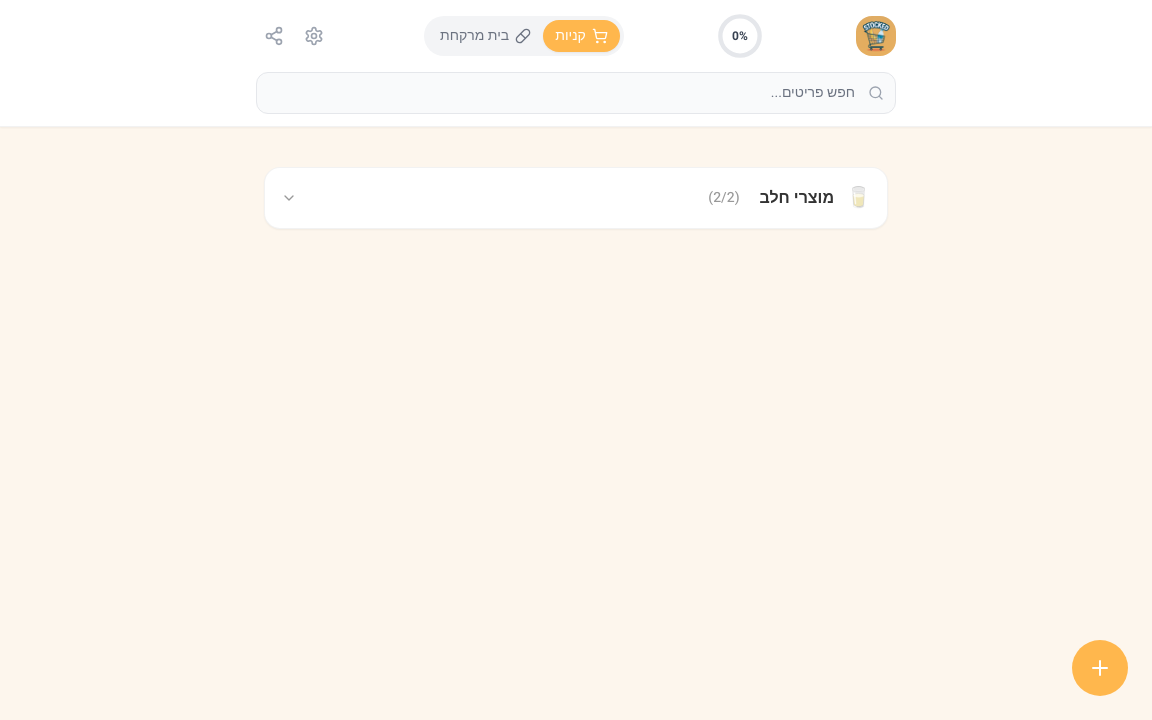
Integration Tests - User Workflows › Complete Shopping Journey › user can complete a full shopping workflow
The width and height of the screenshot is (1152, 720).
Later steps or results of the test are not shown.
# Expand category to see items
Click the heading "מוצרי חלב" at point(797, 198), box [760,186,834,210]
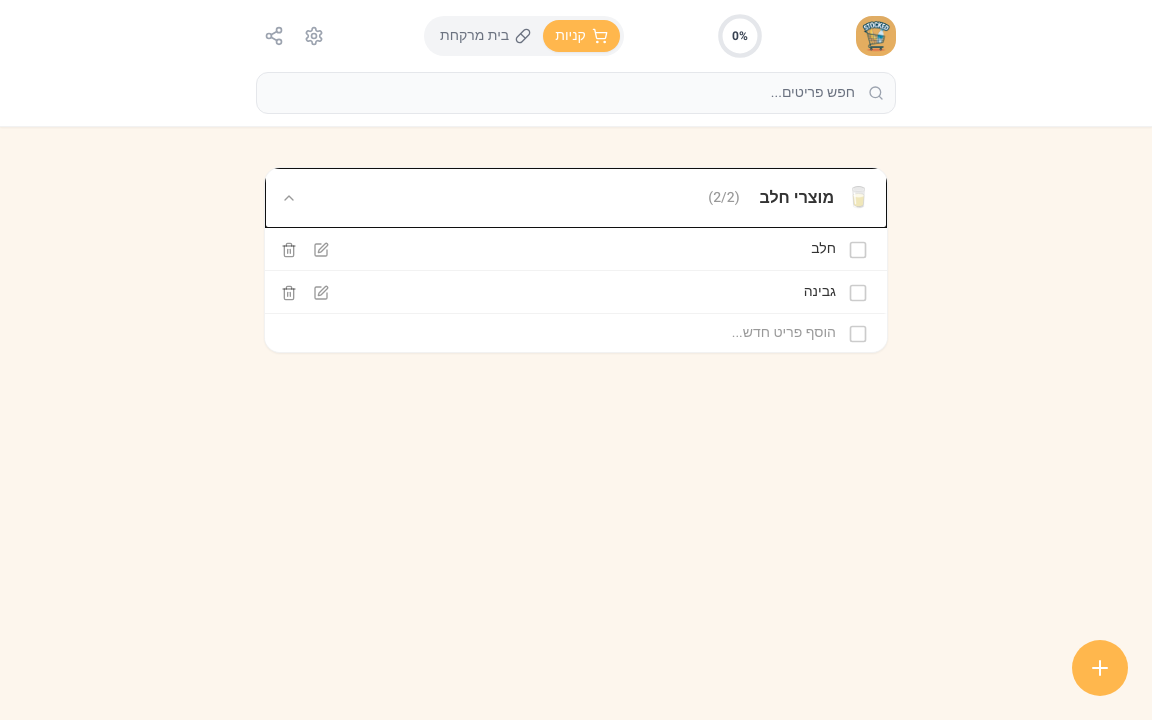
Check: the text "חלב" is shown, box [811,239,836,259]
Check: the text "גבינה" is shown, box [804,282,836,302]
